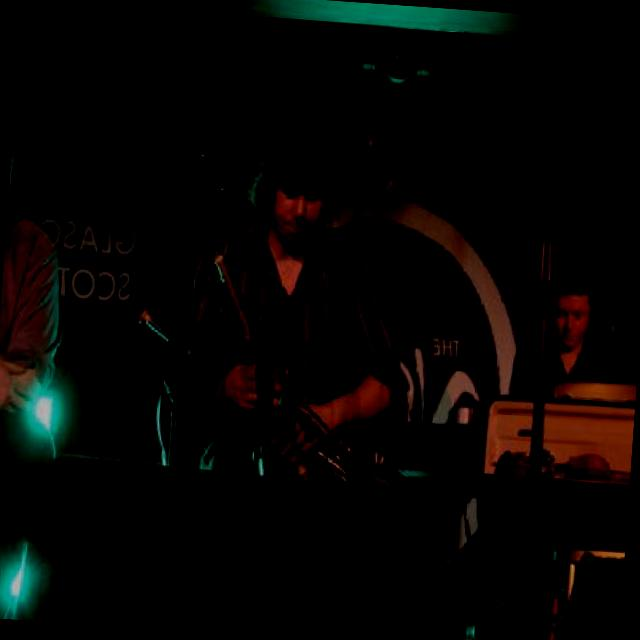Person: (168, 98, 415, 504), (0, 126, 77, 620), (506, 249, 638, 412)
